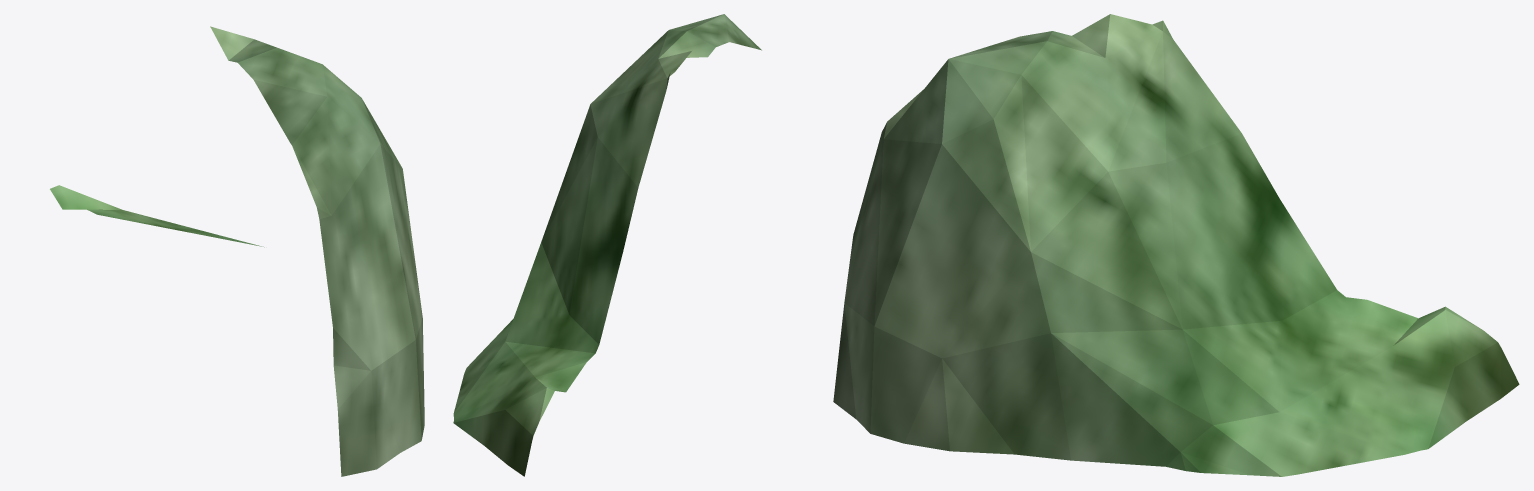
3 renders of one model, left to right at view 1: azimuth 30°, elevation 25°; view 2: azimuth 150°, elevation 25°; view 3: azimuth 270°, elevation 25°, orthographic. The views are drawn at different scales.
Bounding box in the file's own units: 0.3011 × 0.5621 × 0.9437.
Materials: 1 (1 with a texture image).
